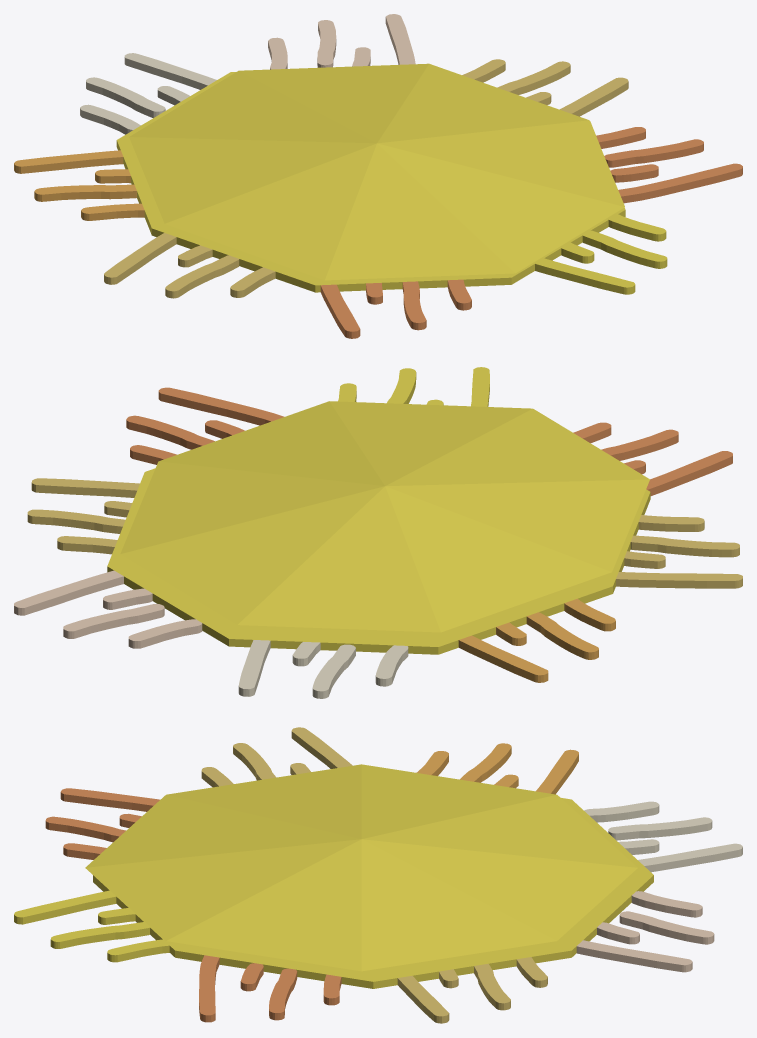
File: barrileteVal.glb
3 views of the same model, one above another, from view 1: azimuth 30°, elevation 25°; view 2: azimuth 150°, elevation 25°; view 3: azimuth 270°, elevation 25° (orthographic). The views are drawn at different scales.
Parts seen in each view (by area): view 1: Mesh_Mesh_head_geo.001_lambert2SG.001; view 2: Mesh_Mesh_head_geo.001_lambert2SG.001; view 3: Mesh_Mesh_head_geo.001_lambert2SG.001.
Part boxes in pixels (x1=…): Mesh_Mesh_head_geo.001_lambert2SG.001: x1=14, y1=14, x2=742, y2=338; Mesh_Mesh_head_geo.001_lambert2SG.001: x1=14, y1=367, x2=742, y2=698; Mesh_Mesh_head_geo.001_lambert2SG.001: x1=14, y1=727, x2=742, y2=1023.
Bounding box in the file's own units: 0.0866 × 0.006 × 0.0923.
